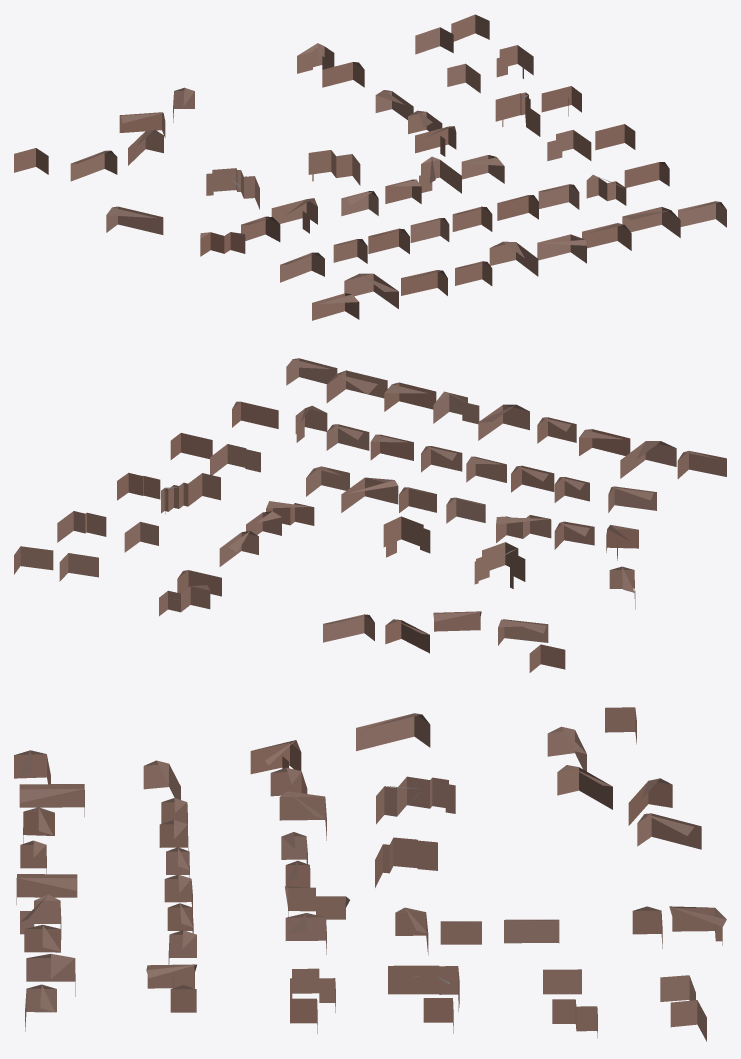
Rendered from c_1645_17836_buildings_residential.glb.
3 views of the same model, one above another, from view 1: azimuth 30°, elevation 25°; view 2: azimuth 150°, elevation 25°; view 3: azimuth 270°, elevation 25° (orthographic). The views are drawn at different scales.
Visible parts, largest first — view 1: geometry_0; view 2: geometry_0; view 3: geometry_0.
Boxes of the visible parts, bbox=[...] form: geometry_0: bbox=[14, 14, 726, 320]; geometry_0: bbox=[14, 358, 726, 672]; geometry_0: bbox=[14, 707, 726, 1041].
Bounding box in the file's own units: 258 × 11.08 × 248.
